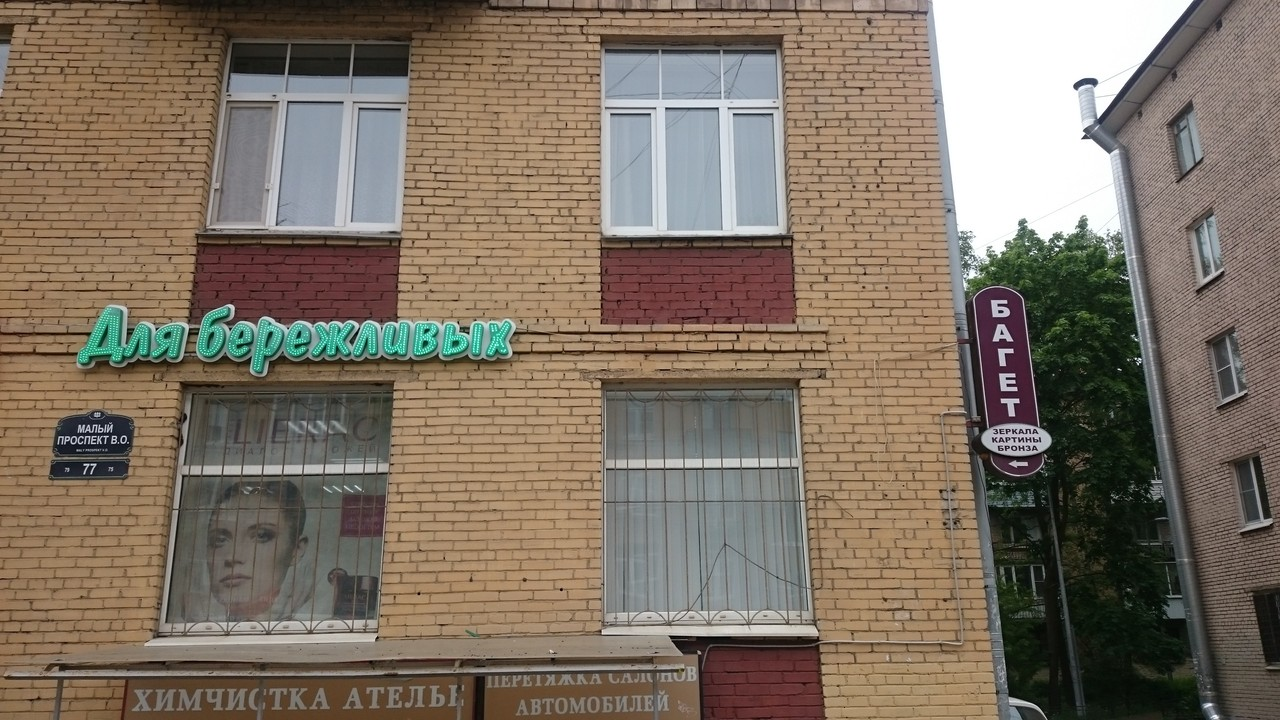cantilever: (948, 284, 1048, 488)
signboard: (77, 303, 517, 367)
window: (172, 383, 388, 632), (602, 380, 809, 622), (205, 41, 411, 229), (597, 37, 788, 237)
